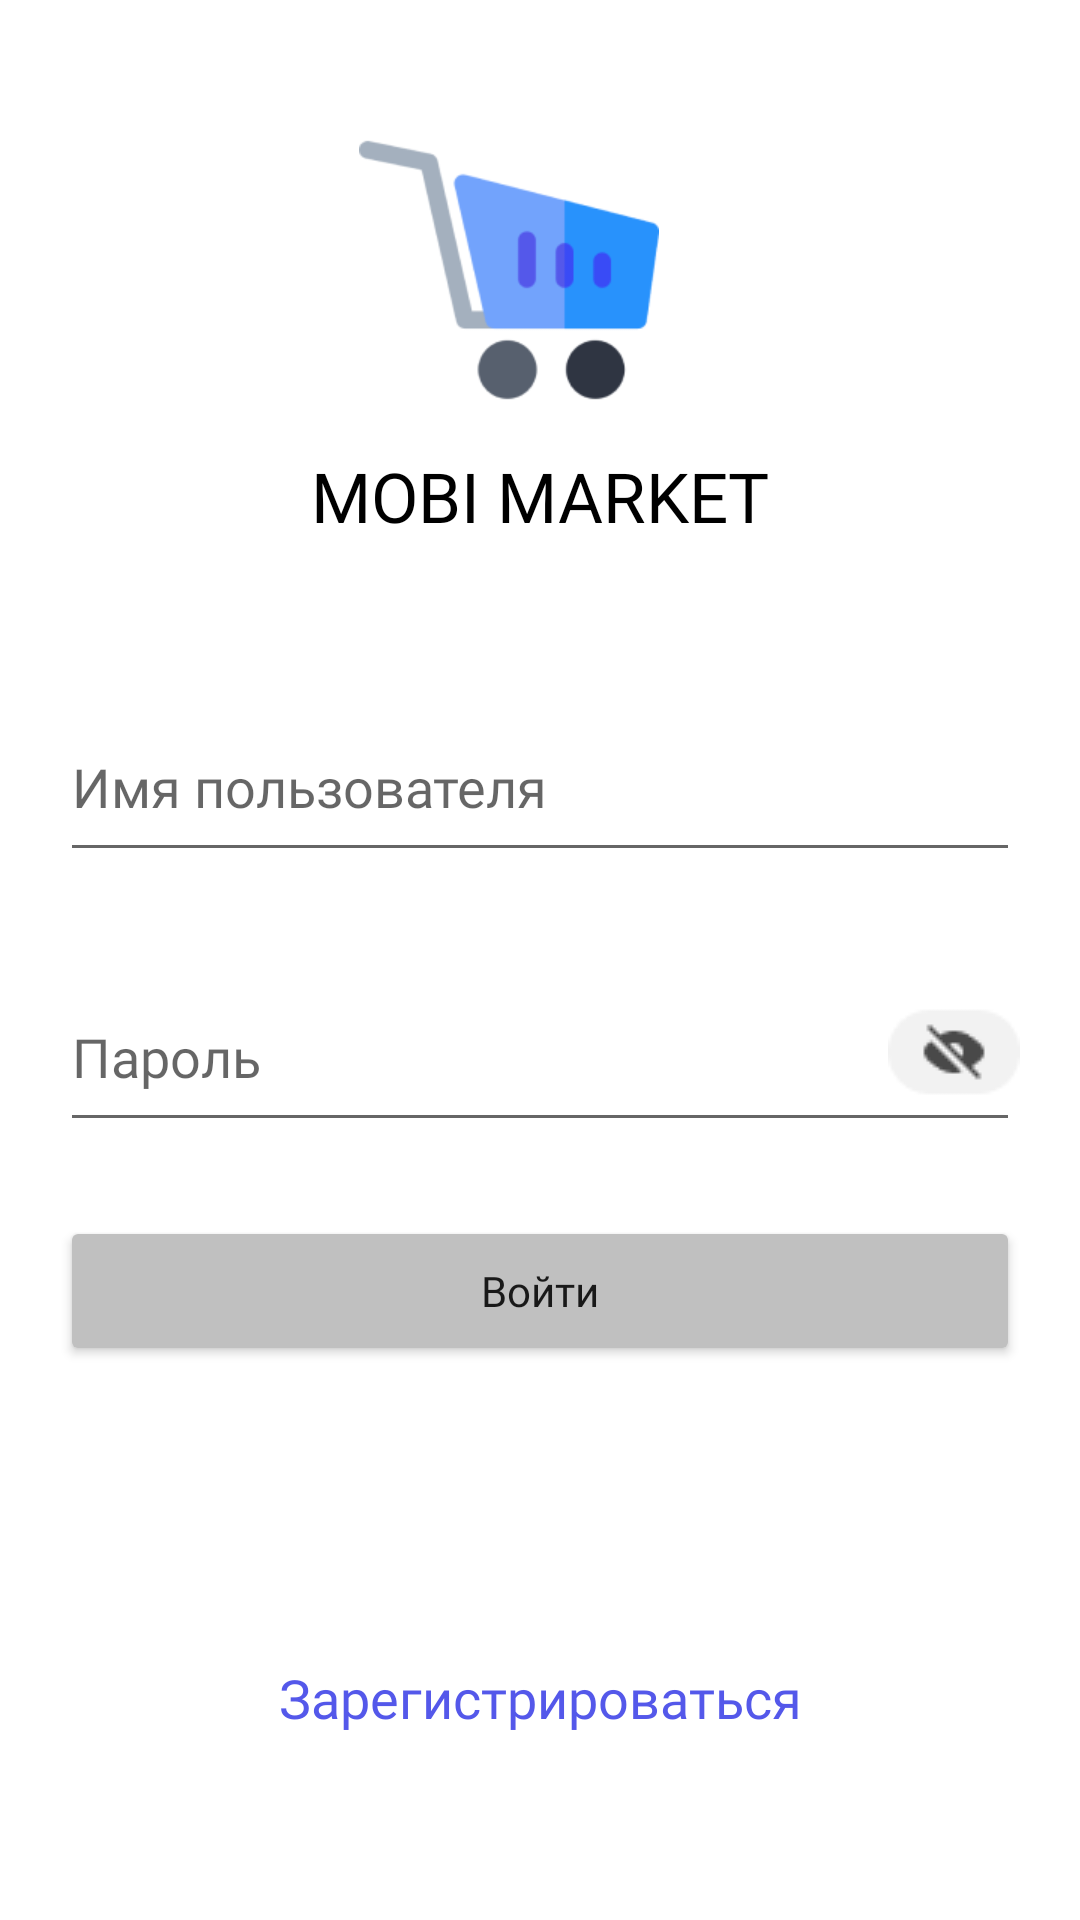

Icon bounding boxes for this 1080 × 1920 phone screenshot, format (x1, y1, x2, y2):
hide password: (923, 1024, 985, 1080)
